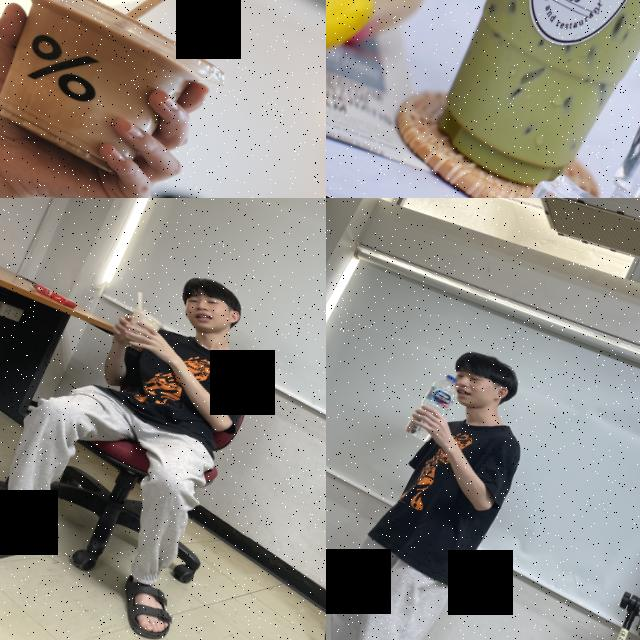bottle: (404, 366, 466, 445)
cup: (387, 0, 640, 198), (0, 0, 234, 198), (116, 304, 166, 358)
